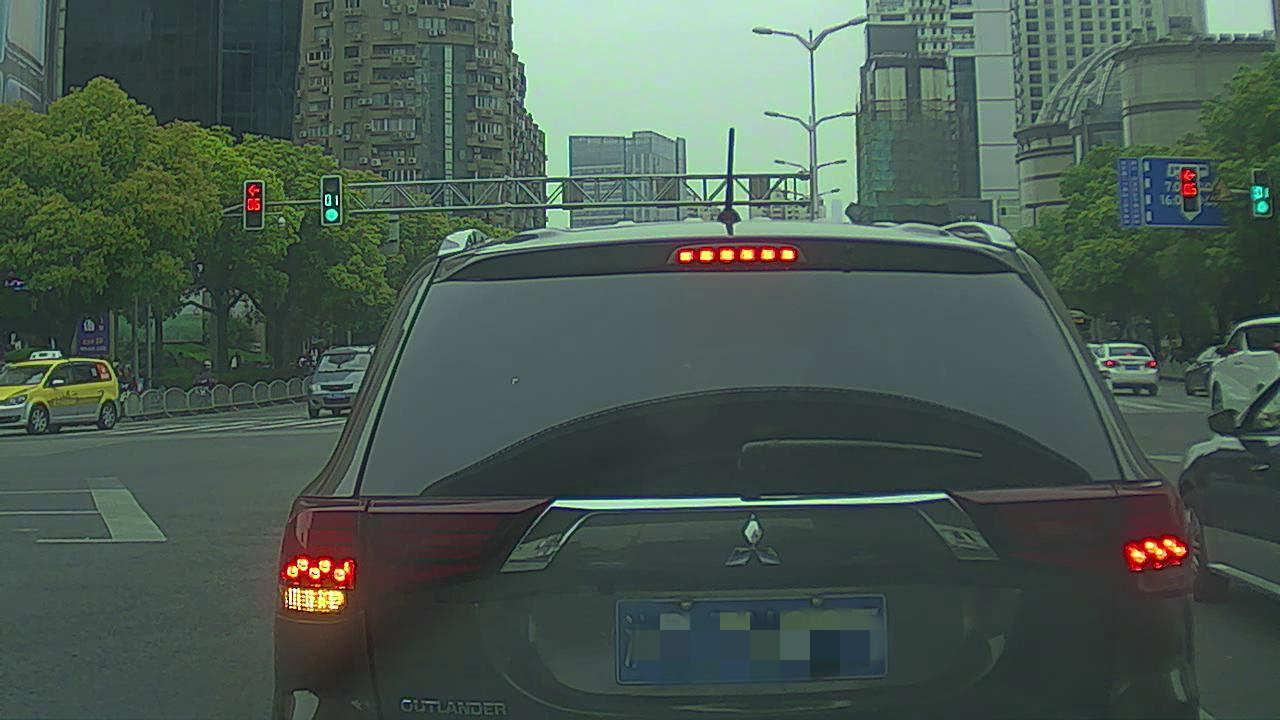traffic_light: (318, 174, 343, 227), (1251, 165, 1274, 219), (243, 179, 267, 228), (1180, 165, 1202, 214)
